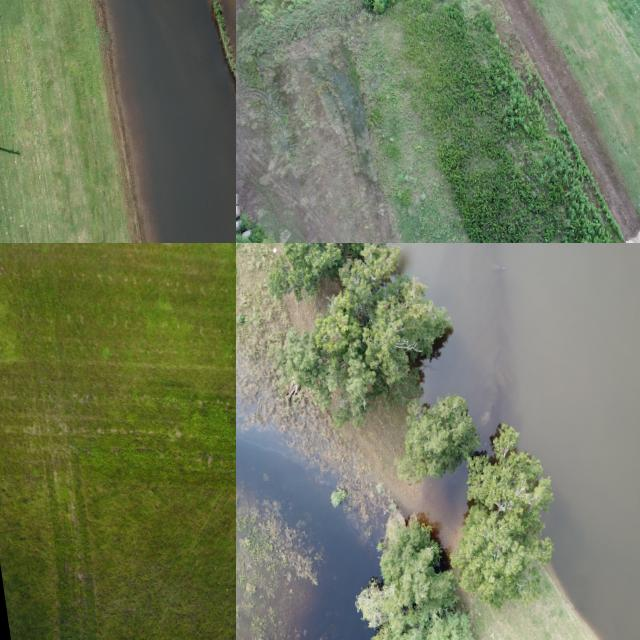fire: (396, 243, 640, 640), (236, 399, 380, 640), (107, 0, 236, 243)
